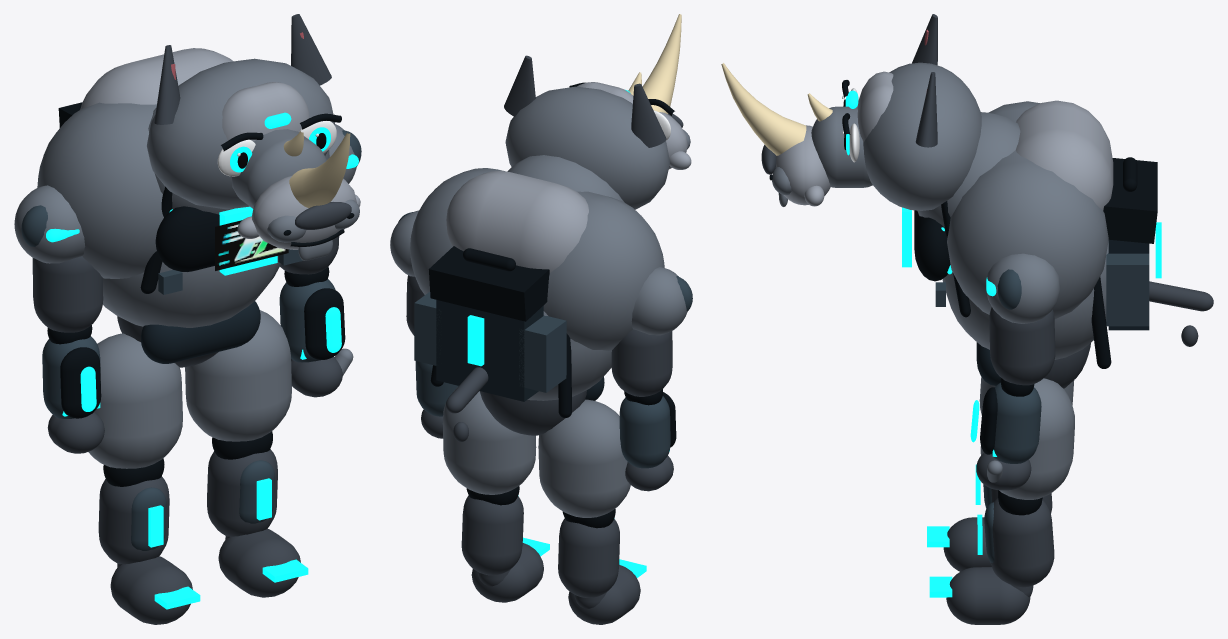
File: rhino3d-v1.0-oscar.glb
The picture shows the model from 3 angles, left to right: view 1: azimuth 30°, elevation 25°; view 2: azimuth 150°, elevation 25°; view 3: azimuth 270°, elevation 25°; orthographic projection. The views are drawn at different scales.
Visible parts, largest first — view 1: ShoulderLine, Cranium, Thigh2, Thigh, RibCage, UpperArm, ShoulderHump, PelvisArmor, Foot2, Foot, NasalBridge, ForeheadMass (+37 smaller); view 2: ShoulderLine, Cranium, ShoulderHump, Thigh, PackBody, Thigh2, PackFlap, LowerLeg2, LowerLeg, UpperArm, ForeArm, PackPocketL (+23 smaller); view 3: ShoulderLine, Cranium, ShoulderHump, LowerLeg2, Thigh2, UpperArm2, Foot2, PackFlap, RibCage, Shoulder2, PackPocketR, ForeArm2 (+17 smaller).
Boxes of the visible parts, x1,y1,x2,y2 form: ShoulderLine: [37, 102, 329, 278]; Cranium: [147, 58, 334, 209]; Thigh2: [185, 310, 291, 441]; Thigh: [88, 333, 182, 468]; RibCage: [103, 256, 280, 327]; UpperArm: [32, 256, 103, 332]; ShoulderHump: [80, 48, 232, 109]; PelvisArmor: [141, 301, 260, 363]; Foot2: [218, 528, 300, 597]; Foot: [110, 556, 192, 624]; NasalBridge: [231, 129, 326, 208]; ForeheadMass: [222, 82, 309, 141]; ShoulderLine: [410, 168, 664, 350]; Cranium: [505, 86, 670, 209]; ShoulderHump: [446, 171, 588, 272]; Thigh: [538, 399, 630, 517]; PackBody: [436, 300, 543, 401]; Thigh2: [442, 387, 536, 494]; PackFlap: [428, 246, 549, 321]; LowerLeg2: [461, 495, 523, 575]; LowerLeg: [558, 518, 619, 597]; UpperArm: [611, 329, 672, 396]; ForeArm: [619, 396, 670, 468]; PackPocketL: [519, 315, 566, 392]; ShoulderLine: [947, 101, 1108, 319]; Cranium: [863, 62, 981, 210]; ShoulderHump: [1016, 100, 1113, 210]; LowerLeg2: [990, 498, 1054, 587]; Thigh2: [980, 378, 1074, 499]; UpperArm2: [989, 307, 1055, 385]; Foot2: [946, 567, 1030, 624]; PackFlap: [1103, 158, 1157, 243]; RibCage: [942, 241, 1108, 359]; Shoulder2: [986, 253, 1060, 323]; PackPocketR: [1106, 253, 1149, 326]; ForeArm2: [991, 382, 1041, 463].
Size of the model in its own units: 1.6 by 2.7 by 2.19.
13 materials, 1 textured.
